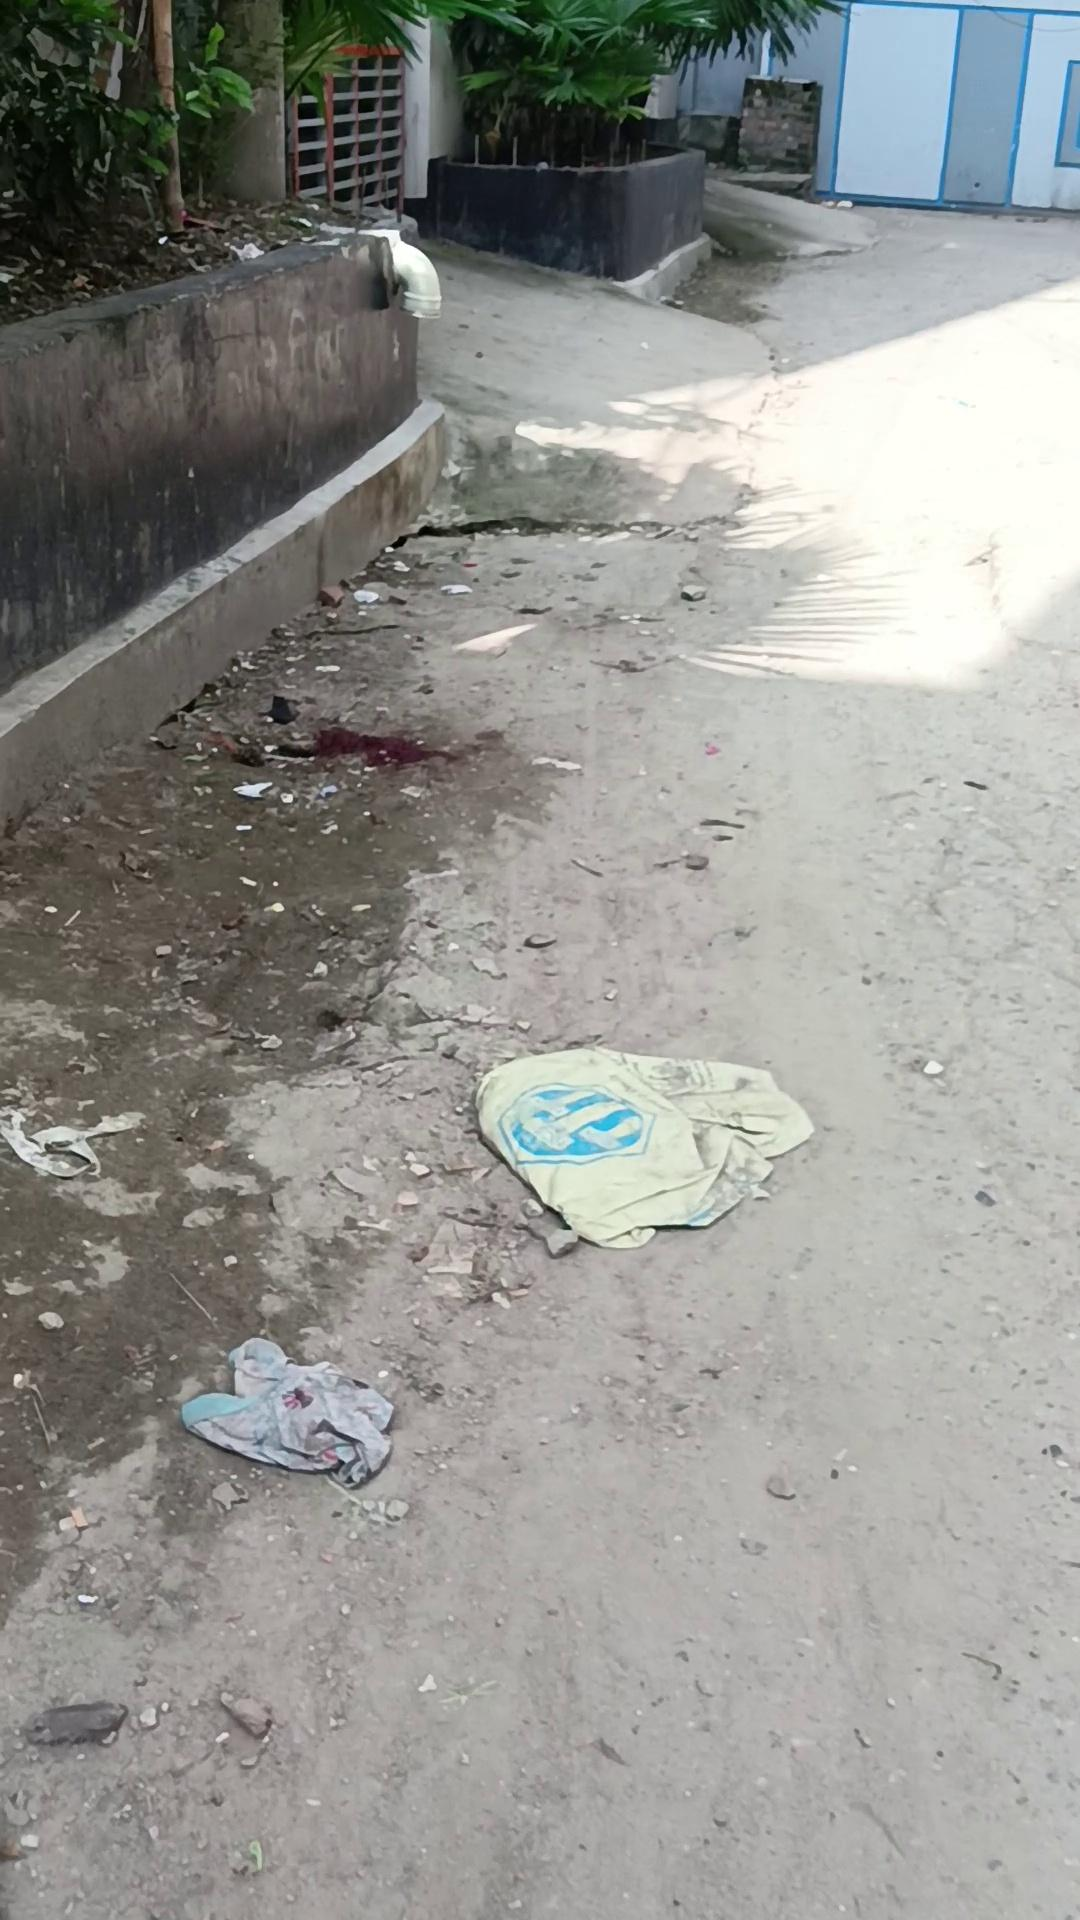Crosswalk: (1, 224, 448, 831), (421, 131, 711, 299)
Fence: (451, 1031, 843, 1279)
